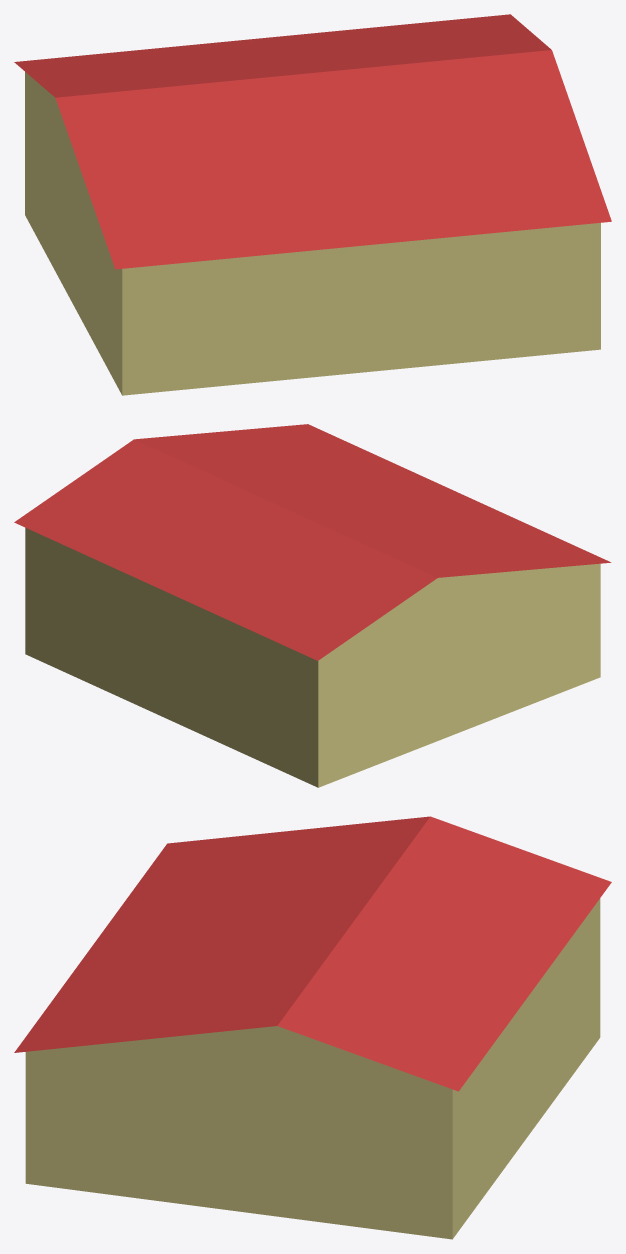
3 renders of one model, top to bottom at view 1: azimuth 30°, elevation 25°; view 2: azimuth 150°, elevation 25°; view 3: azimuth 270°, elevation 25°, orthographic. The views are drawn at different scales.
Size of the model in its own units: 34.09 by 32.19 by 11.57.
